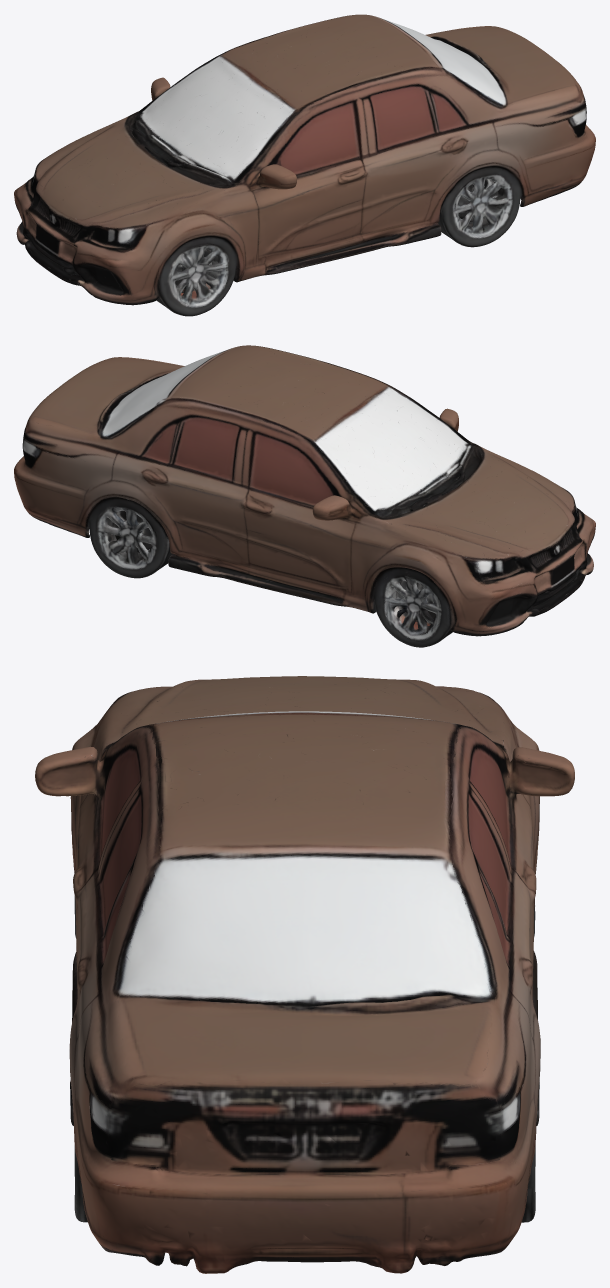
The model's file is bezzabrown.glb.
3 renders of one model, top to bottom at view 1: azimuth 30°, elevation 25°; view 2: azimuth 150°, elevation 25°; view 3: azimuth 270°, elevation 25°, orthographic. The views are drawn at different scales.
Parts seen in each view (by area): view 1: world; view 2: world; view 3: world.
Part boxes in pixels (x1,y1,x2,y2): world: (14, 14, 595, 316); world: (14, 345, 595, 647); world: (35, 676, 574, 1273).
Bounding box in the file's own units: 1 × 0.333 × 0.4582.
Materials: 1 (1 with a texture image).
